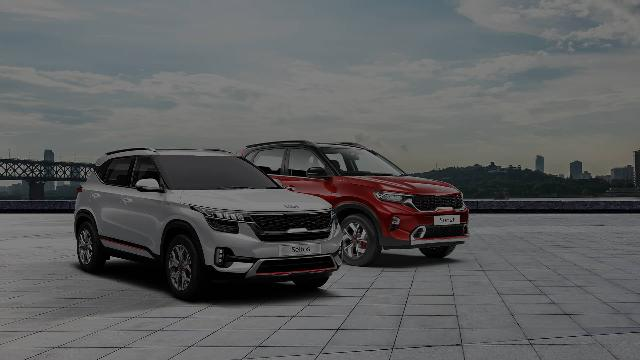kia: (74, 146, 343, 298), (234, 140, 470, 266)
